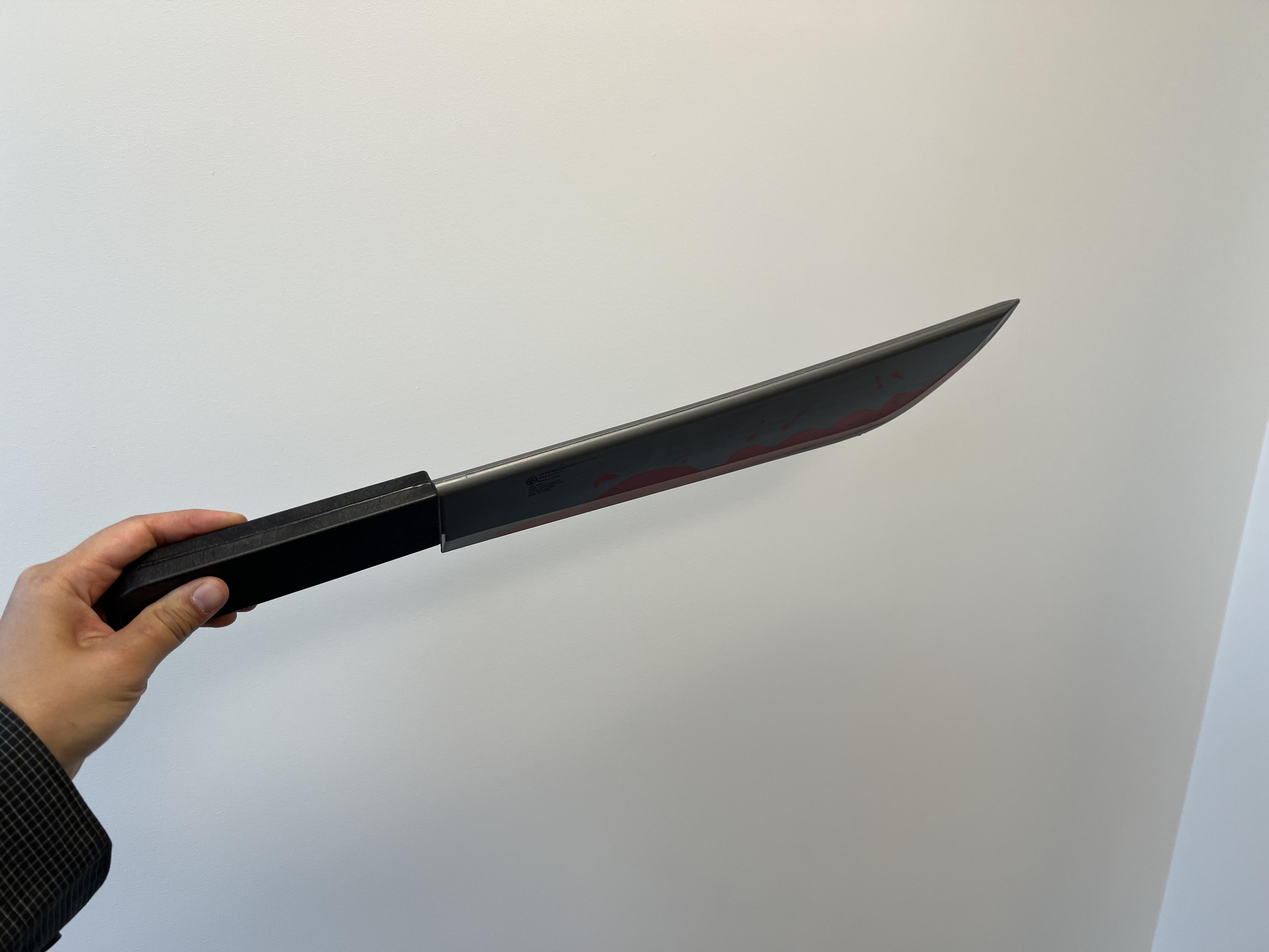Knife: (137, 294, 1020, 589), (0, 512, 248, 952), (0, 515, 247, 763)
